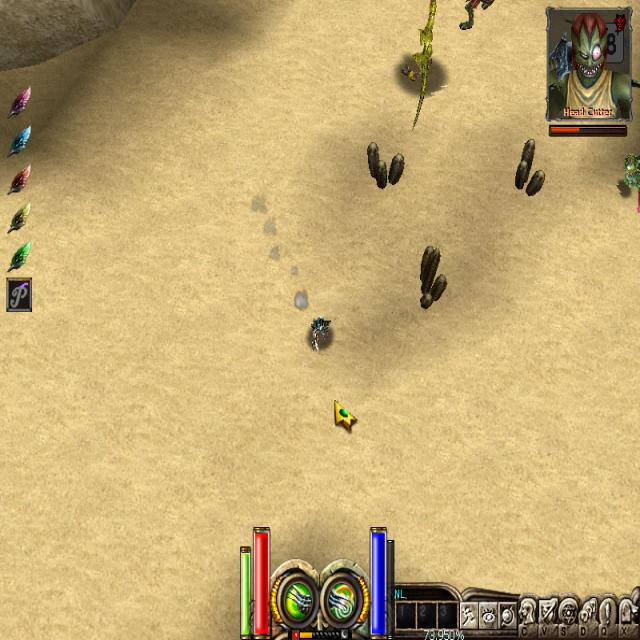monster: (395, 0, 479, 139)
